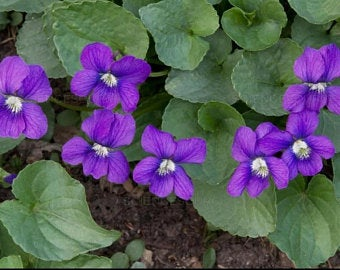violet: (66, 46, 158, 119), (129, 123, 209, 204), (68, 113, 133, 195), (226, 125, 294, 198), (1, 55, 53, 146), (274, 111, 340, 178), (281, 48, 340, 113)
